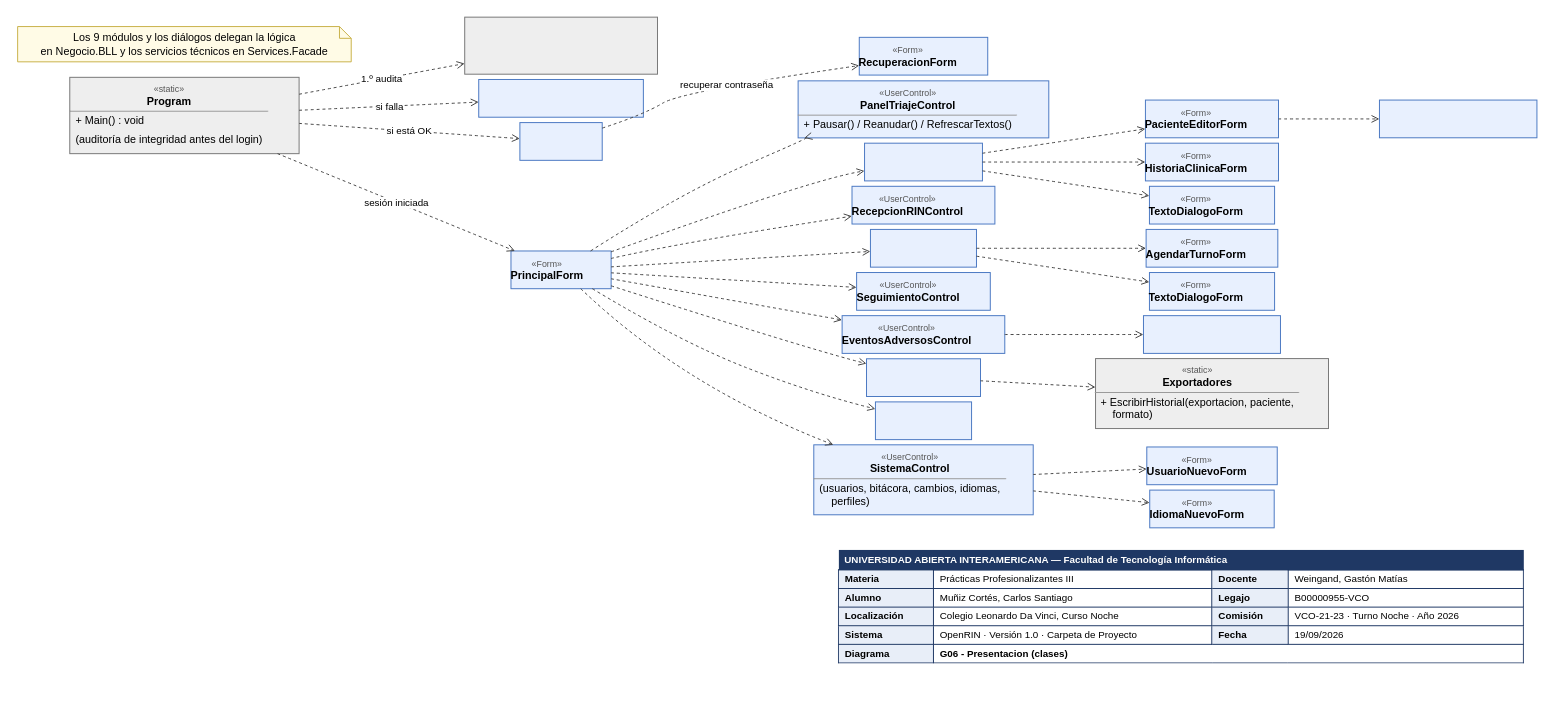
Image size: 1554x701. Some labels were removed from this diagram. Each missing label, with the centre of its shape:
"«Form» CredencialesPortalForm" belongs at point (1457, 118).
"«Form» EventoAdversoForm" belongs at point (1211, 334).
"«Form» IntegridadVulneradaForm" belongs at point (560, 97).
"«Form» LoginForm" belongs at point (560, 141).
"«static» VerificacionArranque + Auditar() : ResultadoAuditoria?" belongs at point (560, 45).
"«UserControl» AgendaControl" belongs at point (922, 247).
"«UserControl» PacientesControl" belongs at point (923, 161).
"«UserControl» PortalControl" belongs at point (923, 420).
"«UserControl» ReportesControl" belongs at point (923, 377).
